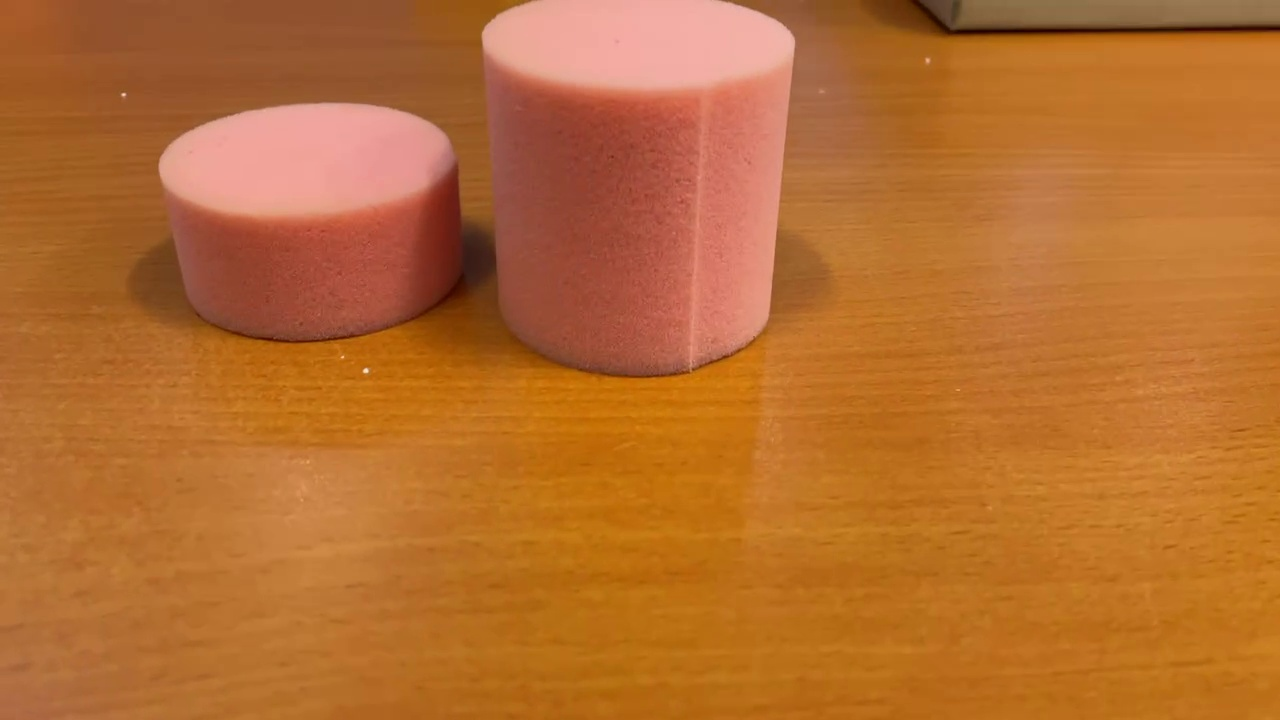Clyinder_short: (147, 97, 470, 339)
Cylinder: (477, 1, 801, 380)
